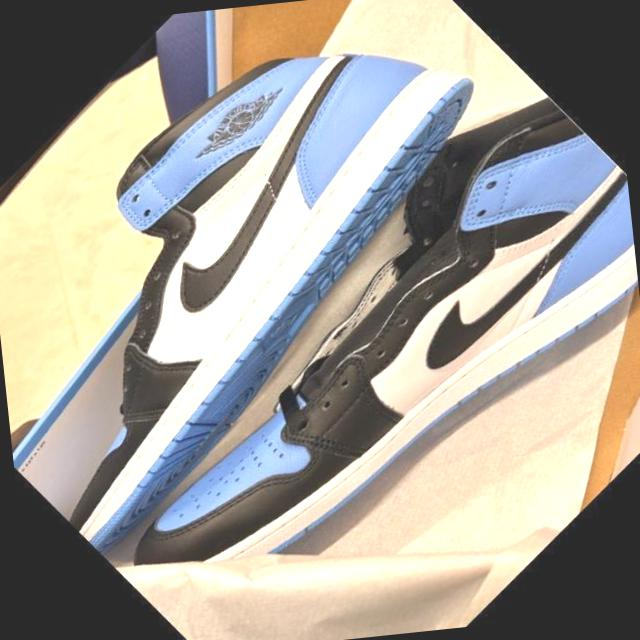nike_original_jordan: (32, 58, 640, 640), (0, 0, 570, 567)
